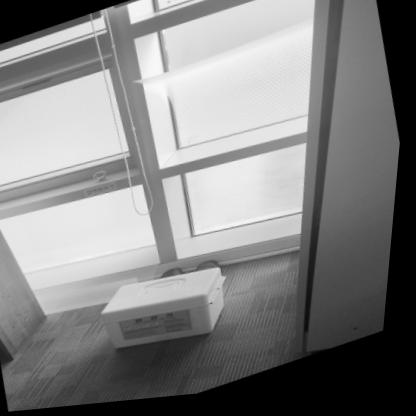DDL: (101, 256, 246, 370)
